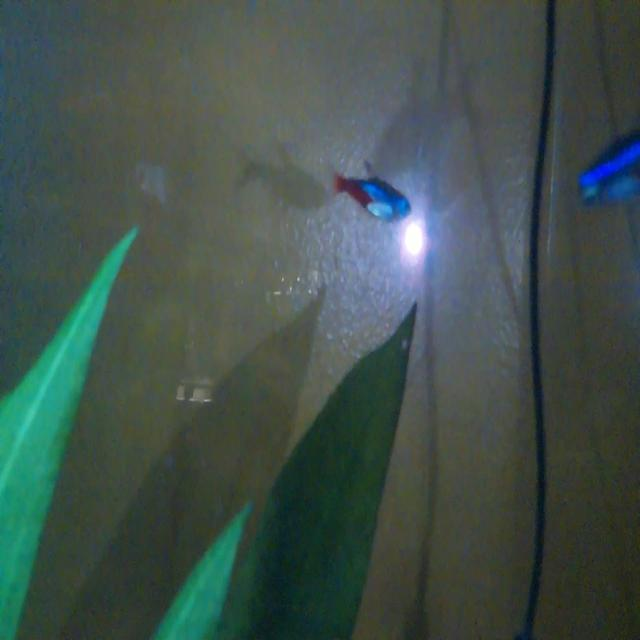fish: (331, 153, 409, 223)
